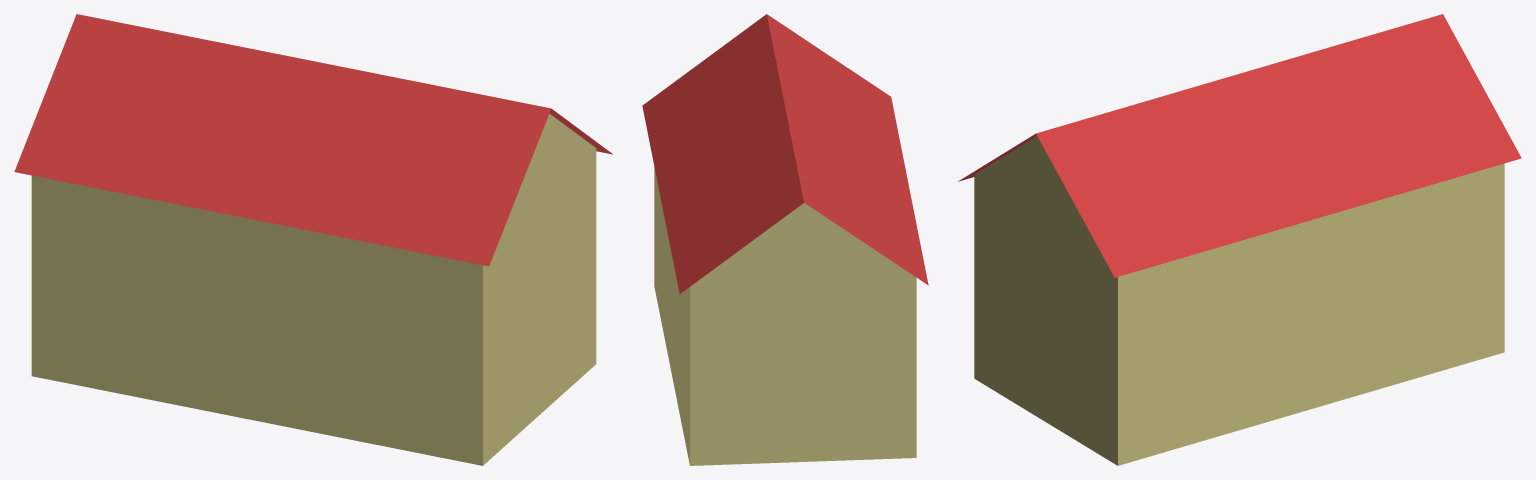
The picture shows the model from 3 angles, left to right: view 1: azimuth 30°, elevation 25°; view 2: azimuth 150°, elevation 25°; view 3: azimuth 270°, elevation 25°; orthographic projection. The views are drawn at different scales.
Size of the model in its own units: 20.59 by 22.82 by 13.01.
